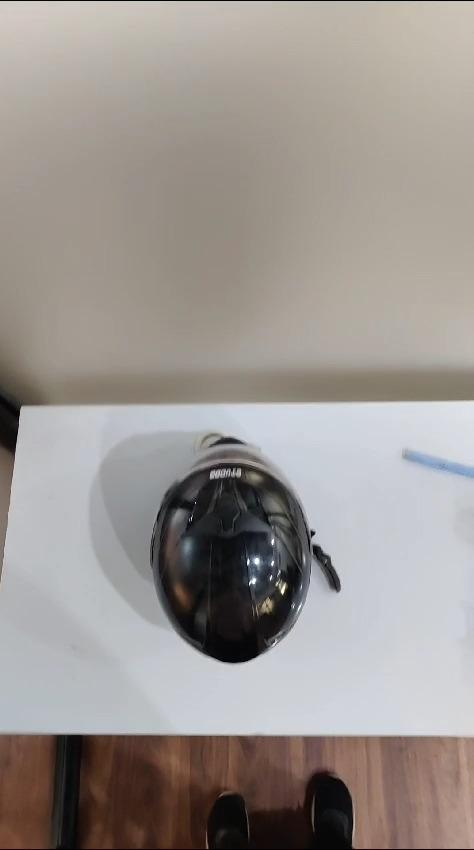Helmet: (118, 438, 343, 681)
